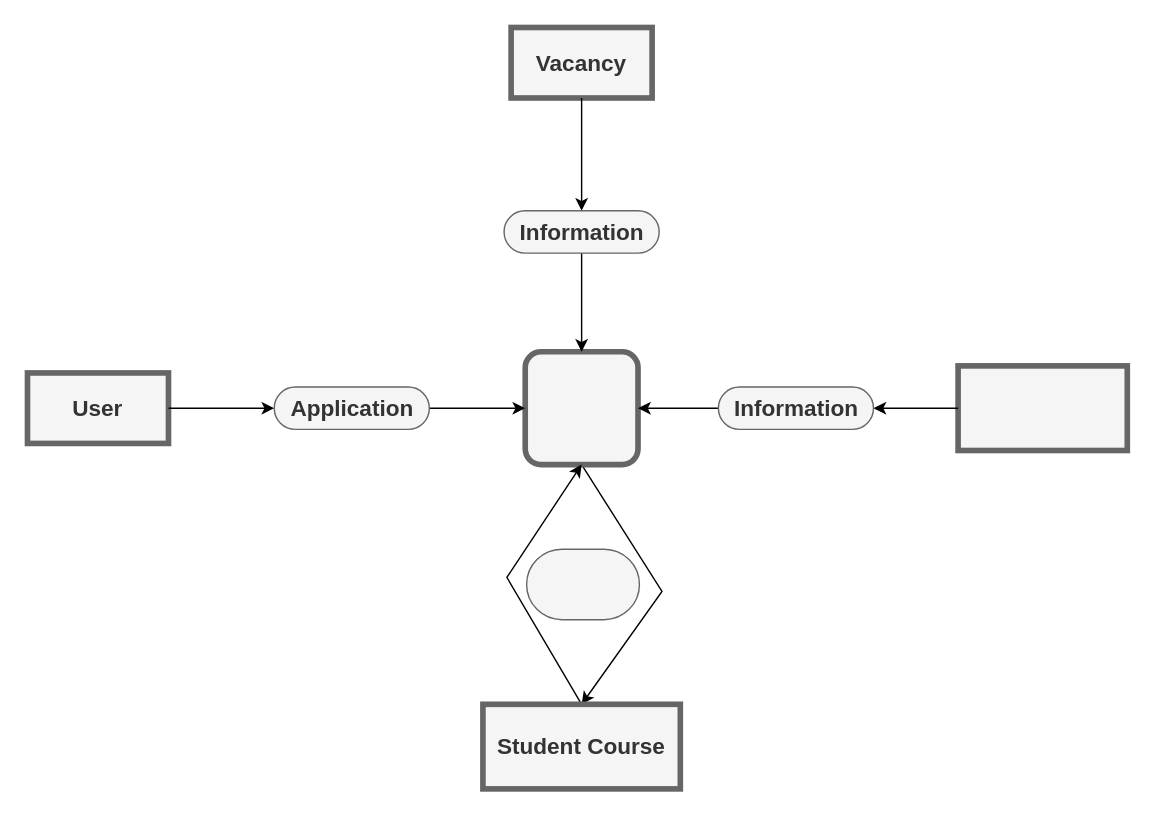
Image size: 1153x815. Some labels were removed from this diagram. Here are the shapes that lost their labels. From the top down, the centre of each, then its label:
At point (581, 407): "Uninter Social Média".
At point (1042, 407): "Training".
At point (582, 584): "Course Name".
